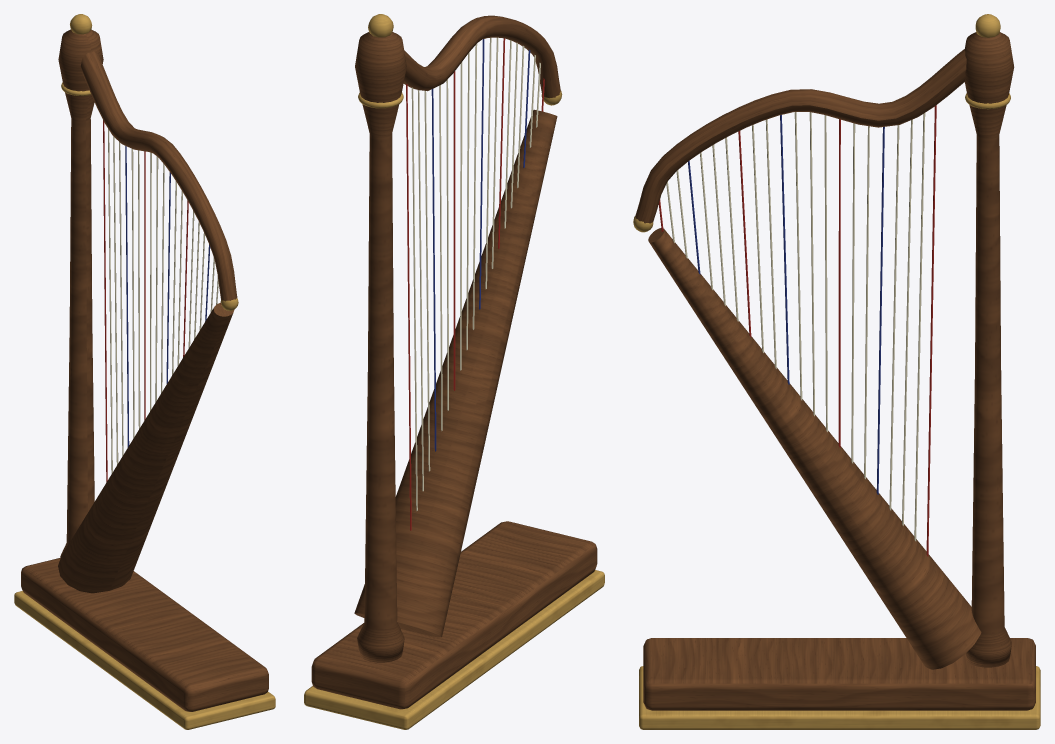
The model's file is harp.glb.
3 renders of one model, left to right at view 1: azimuth 30°, elevation 25°; view 2: azimuth 150°, elevation 25°; view 3: azimuth 270°, elevation 25°, orthographic. The views are drawn at different scales.
Visible parts, largest first — view 1: harp; view 2: harp; view 3: harp.
Part boxes in pixels (x1=…): harp: x1=14, y1=14, x2=275, y2=729; harp: x1=304, y1=14, x2=604, y2=729; harp: x1=633, y1=14, x2=1040, y2=729.
Bounding box in the file's own units: 0.2801 × 1.75 × 0.9331.
5 materials, 2 textured.
